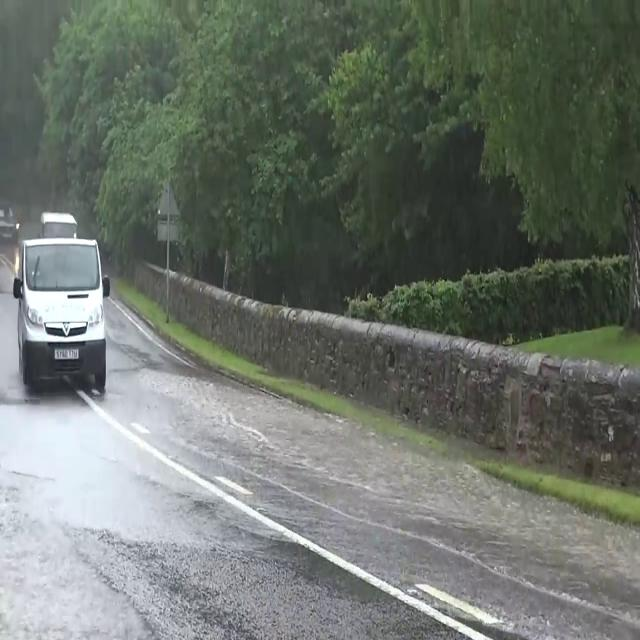license-plate-annotation: (52, 345, 82, 361)
